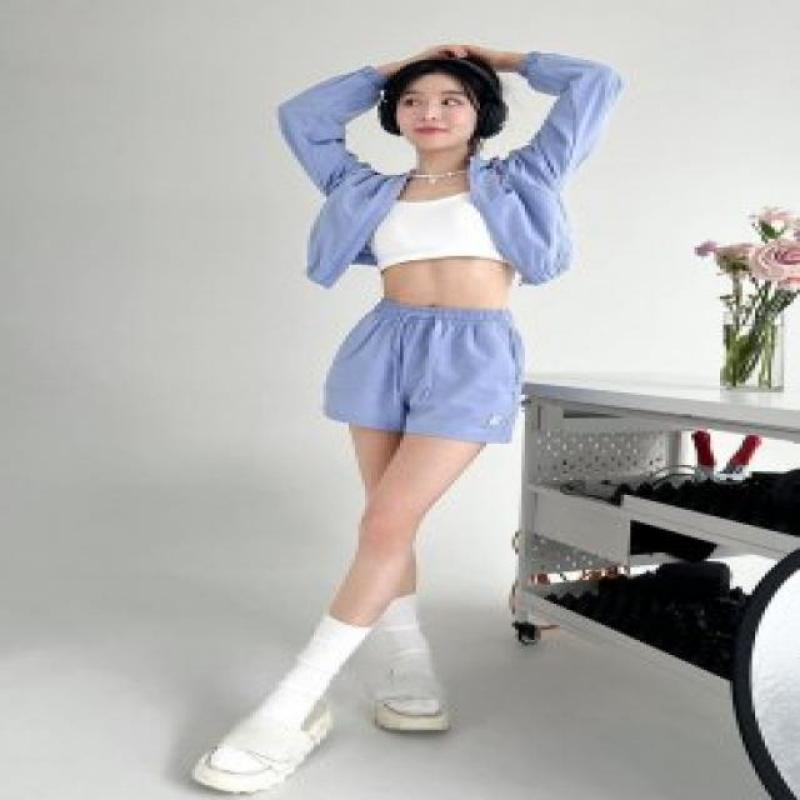Shorts: (320, 297, 524, 447)
jacket: (274, 48, 624, 292)
vest: (366, 187, 520, 272)
